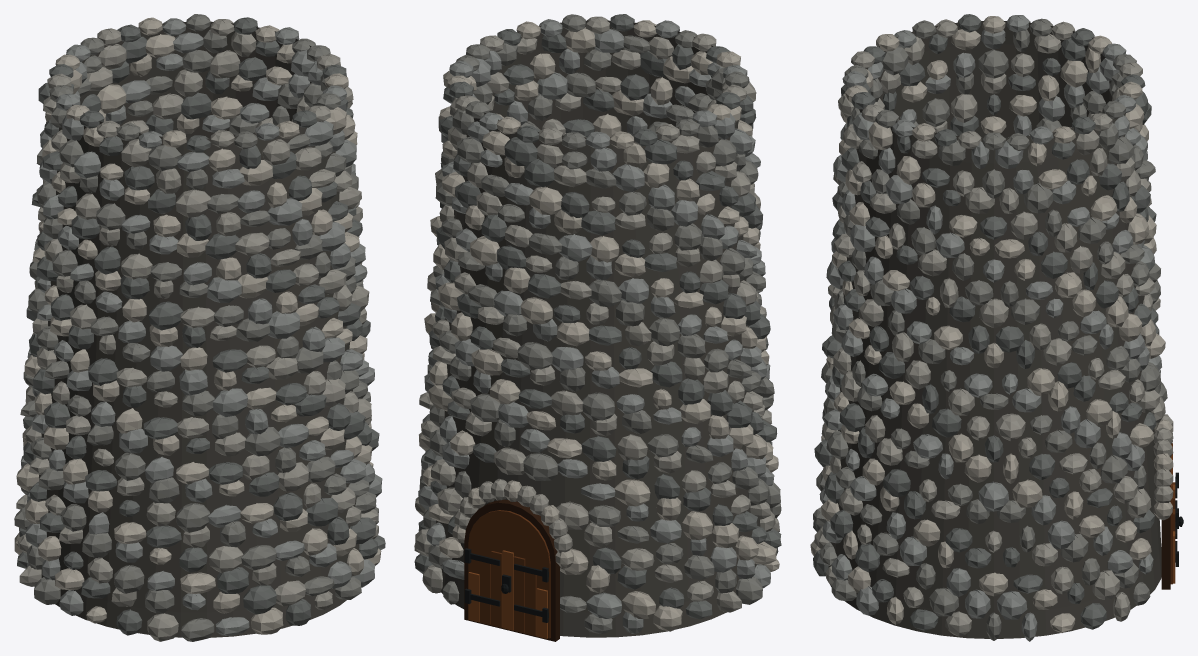
Rendered from stone_tower.obj.
3 renders of one model, left to right at view 1: azimuth 30°, elevation 25°; view 2: azimuth 150°, elevation 25°; view 3: azimuth 270°, elevation 25°, orthographic.
Parts seen in each view (by area): view 1: StoneTower; view 2: StoneTower; view 3: StoneTower.
Part boxes in pixels (bbox=[...]): StoneTower: bbox=[14, 14, 385, 641]; StoneTower: bbox=[414, 14, 781, 641]; StoneTower: bbox=[810, 14, 1183, 641].
Bounding box in the file's own units: 339 × 491 × 332.
